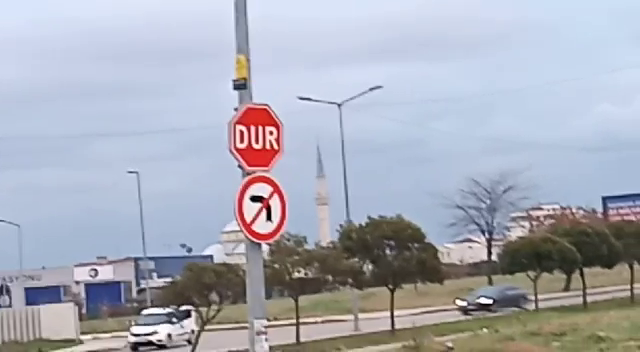no_left: (233, 171, 289, 246)
stop: (226, 101, 287, 174)
